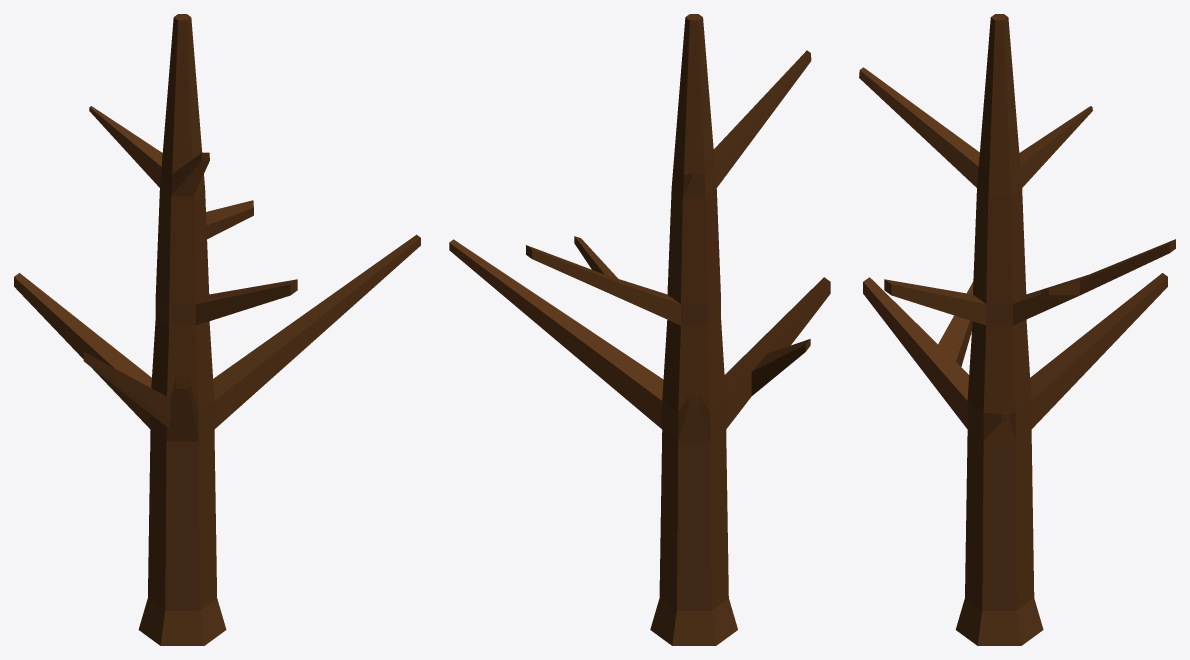
File: Tree_root.fbx
The picture shows the model from 3 angles, left to right: view 1: azimuth 30°, elevation 25°; view 2: azimuth 150°, elevation 25°; view 3: azimuth 270°, elevation 25°; orthographic projection.
Visible parts, largest first — view 1: Cylinder.010; view 2: Cylinder.010; view 3: Cylinder.010.
Boxes of the visible parts, <box> form: Cylinder.010: <box>14,14,420,645</box>; Cylinder.010: <box>449,14,830,645</box>; Cylinder.010: <box>859,14,1175,645</box>.
Bounding box in the file's own units: 757 × 1277 × 599.
